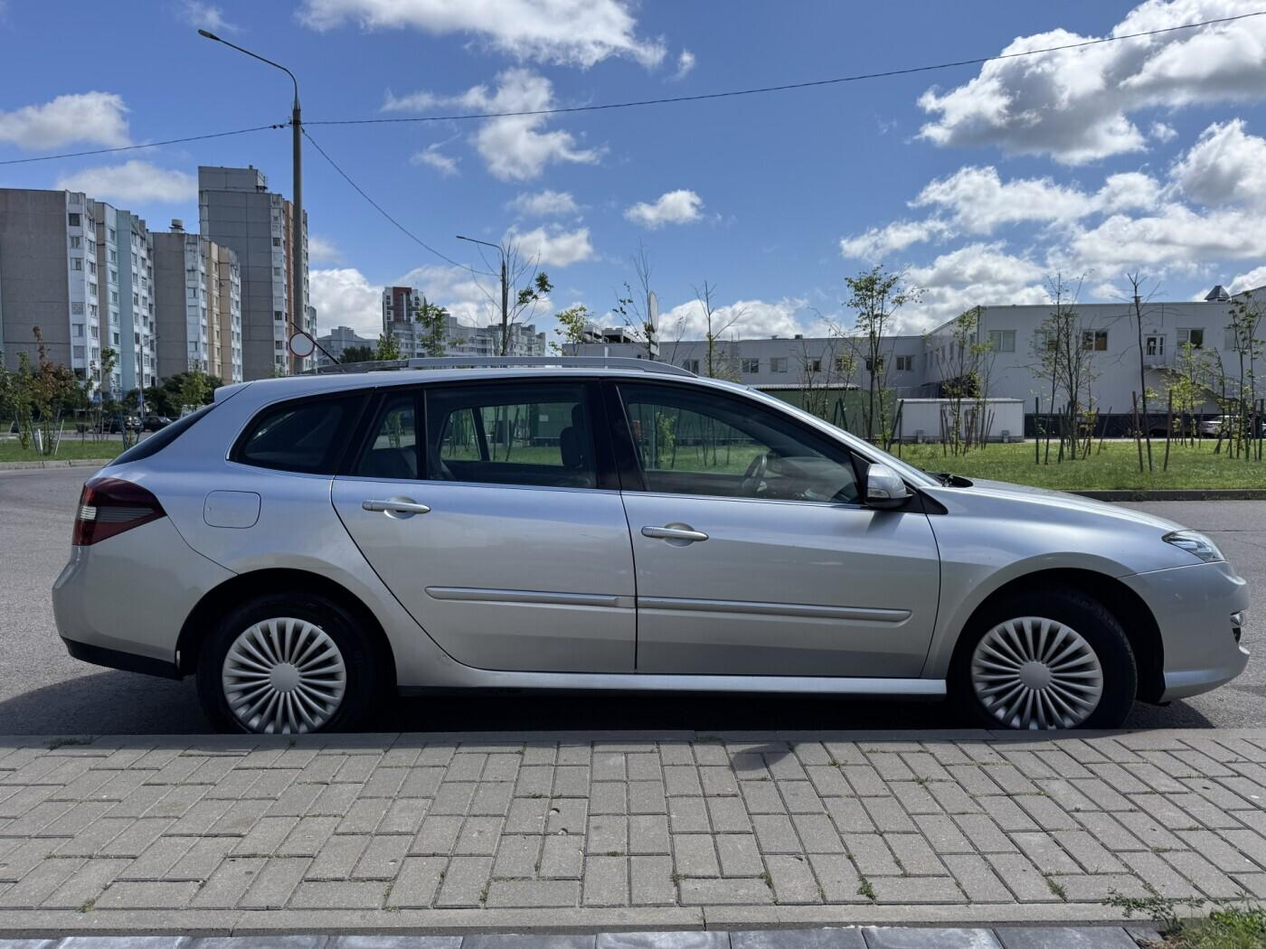Laguna_2010-2015: (47, 343, 1257, 775)
